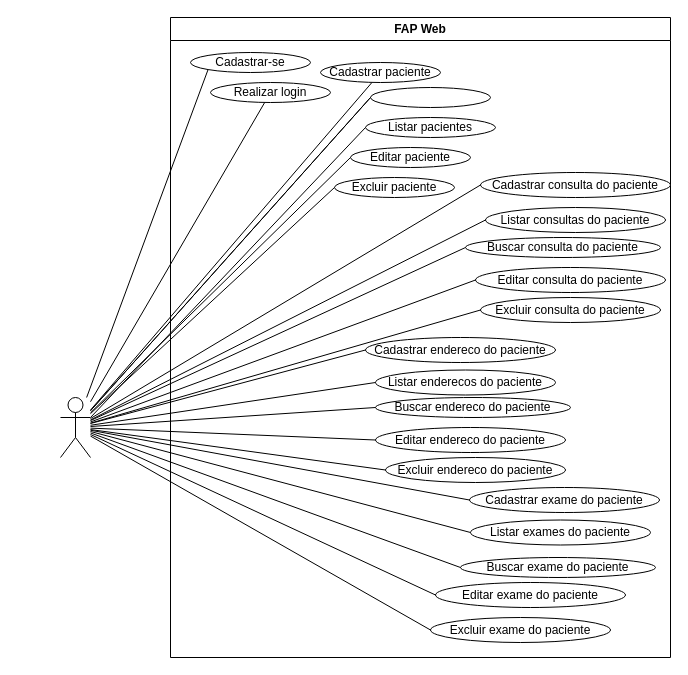
This 688x675 diagram has some shape labels left out. The shapes that lost their labels are listed below. From the top down, each one's centre as x and y in pixels, then its label:
point (430, 97): Buscar paciente
point (75, 427): Profissional de Saúde
